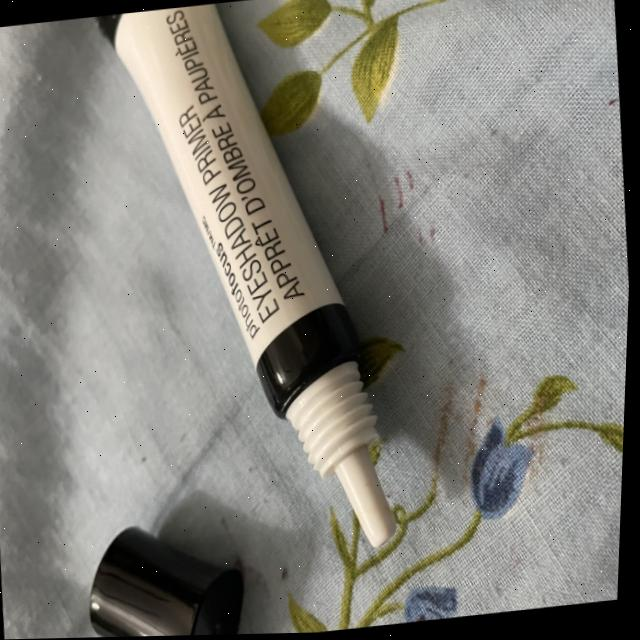primer: (72, 0, 436, 593)
